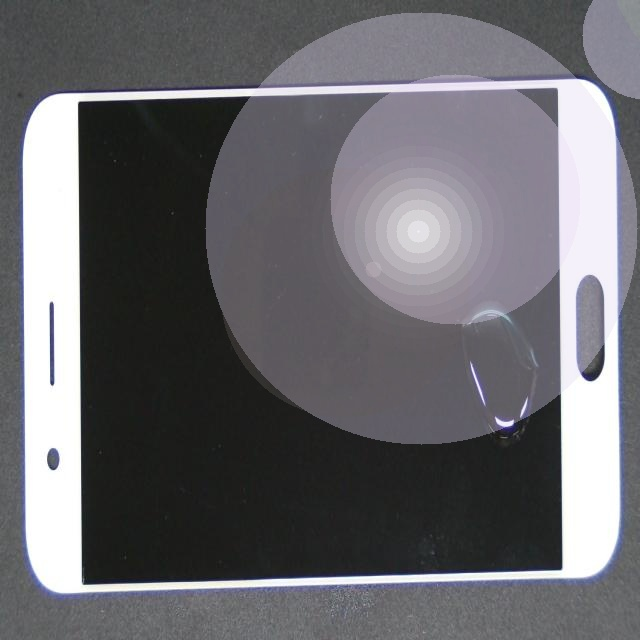oil: (282, 206, 640, 532)
